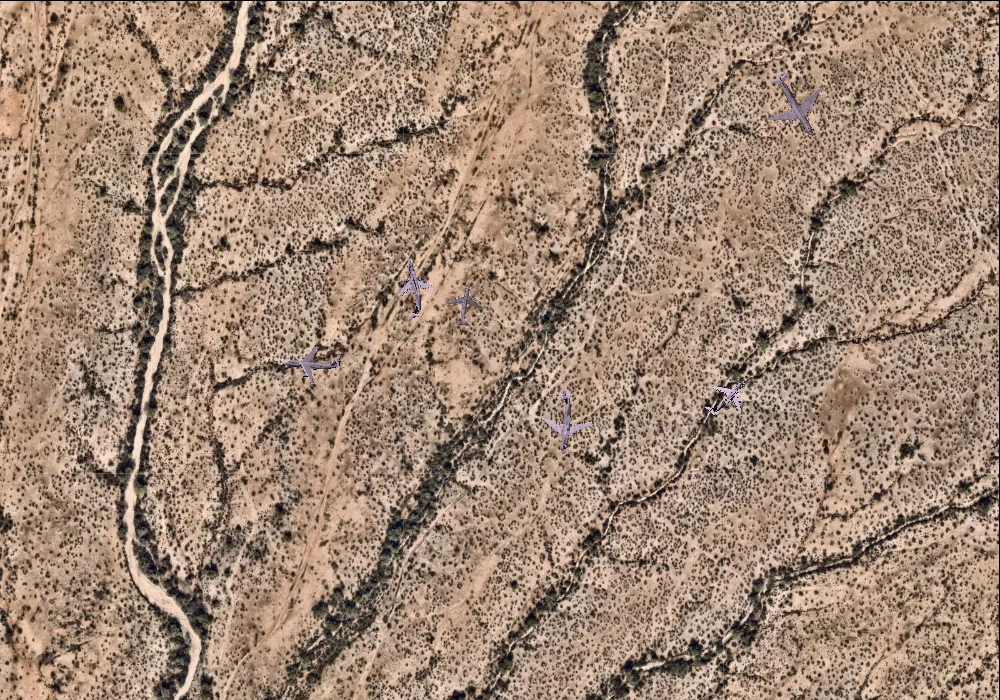plane: (750, 58, 841, 151), (531, 388, 597, 457), (694, 364, 760, 429), (382, 256, 442, 324), (281, 334, 344, 389), (441, 279, 489, 329)
